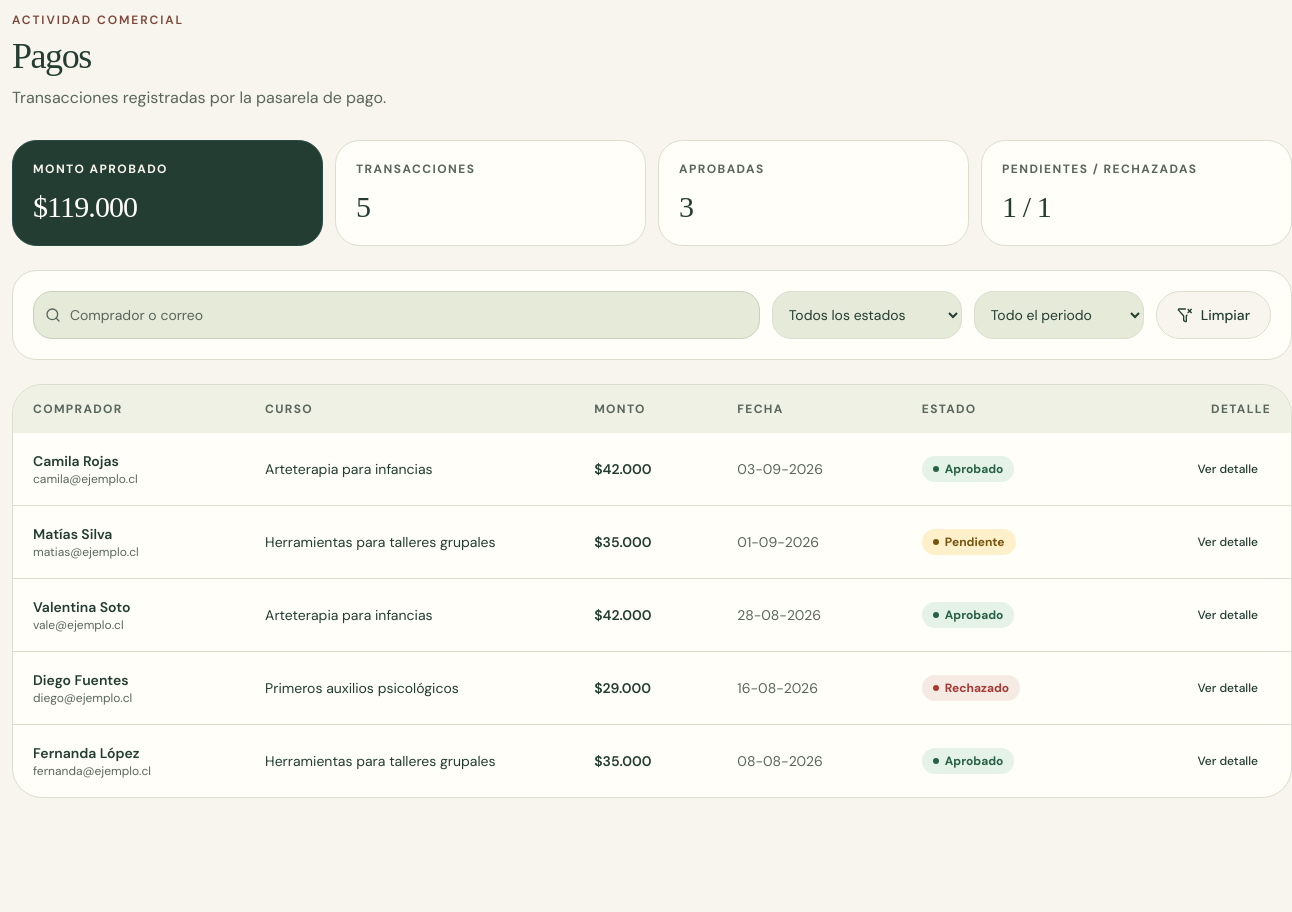
Scenario: PaymentsPanel › calculates metrics from combined filters and can clear an empty result
expect the text "$119.000" is shown: met, box 33,190 -> 137,223
Type "camila" into the field named "Buscar por comprador o correo".
click(396, 315); type("camila")  # box 33,291 -> 760,339
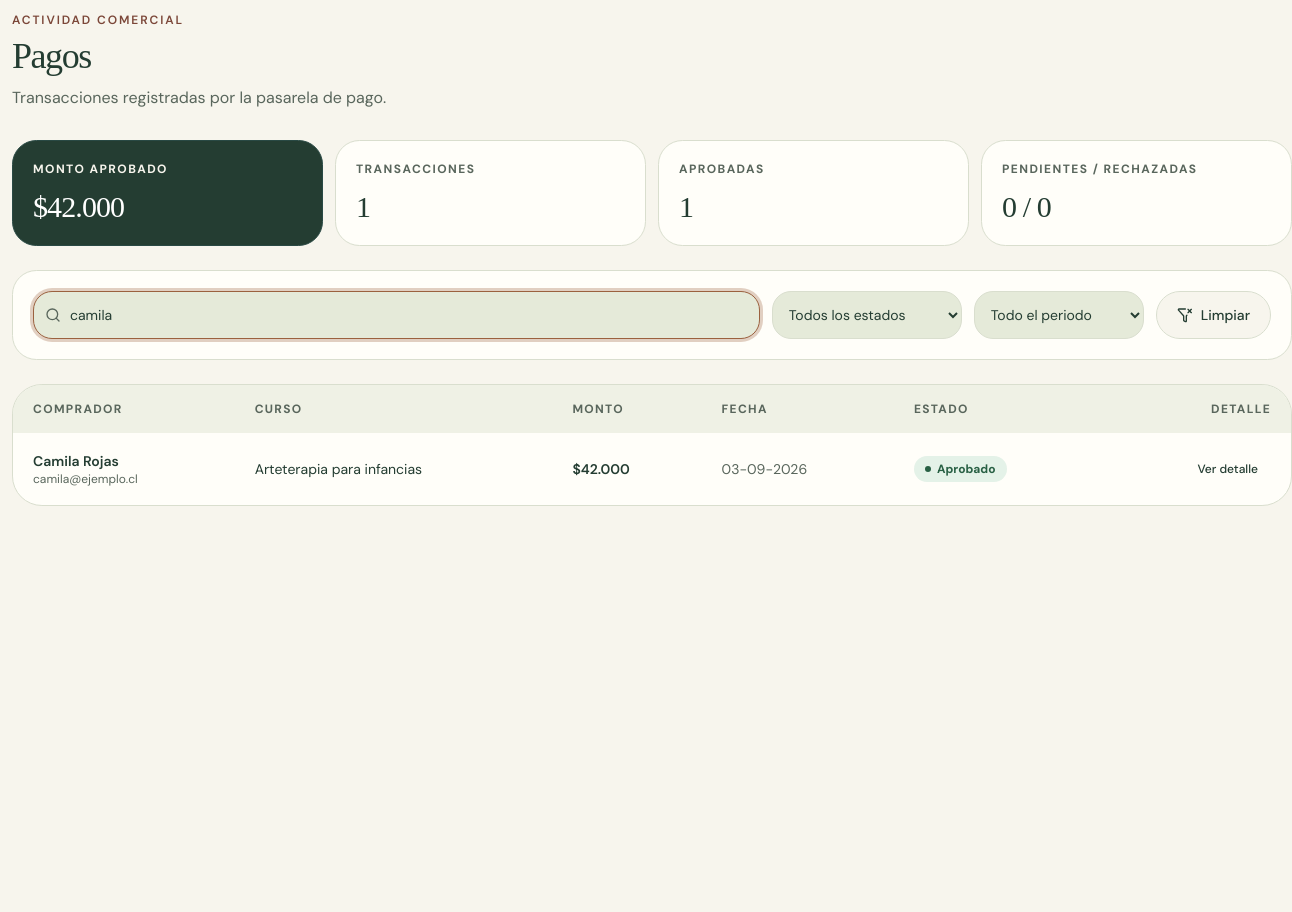
Select "Aprobado" in the 1st dropdown named "Filtrar por estado" at coordinates (867, 315), box 772,291 -> 962,339
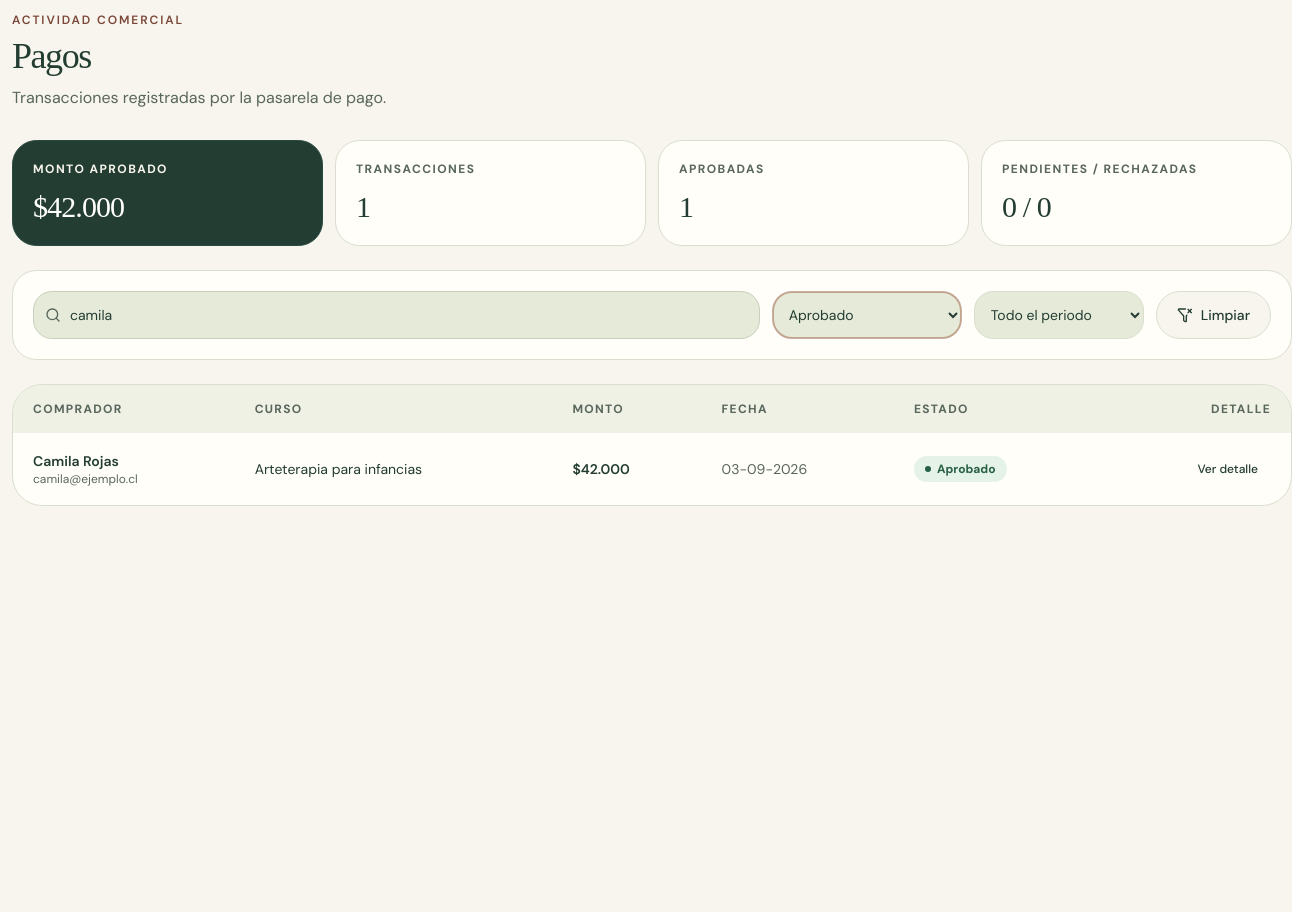
expect the text "Camila Rojas" is shown: met, box 33,452 -> 119,470
expect the text "$42.000" is shown: met, box 33,190 -> 124,223
Replace the text in the field named "Buscar por comprador o correo" with "sin-coincidencias" at coordinates (396, 315), box 33,291 -> 760,339
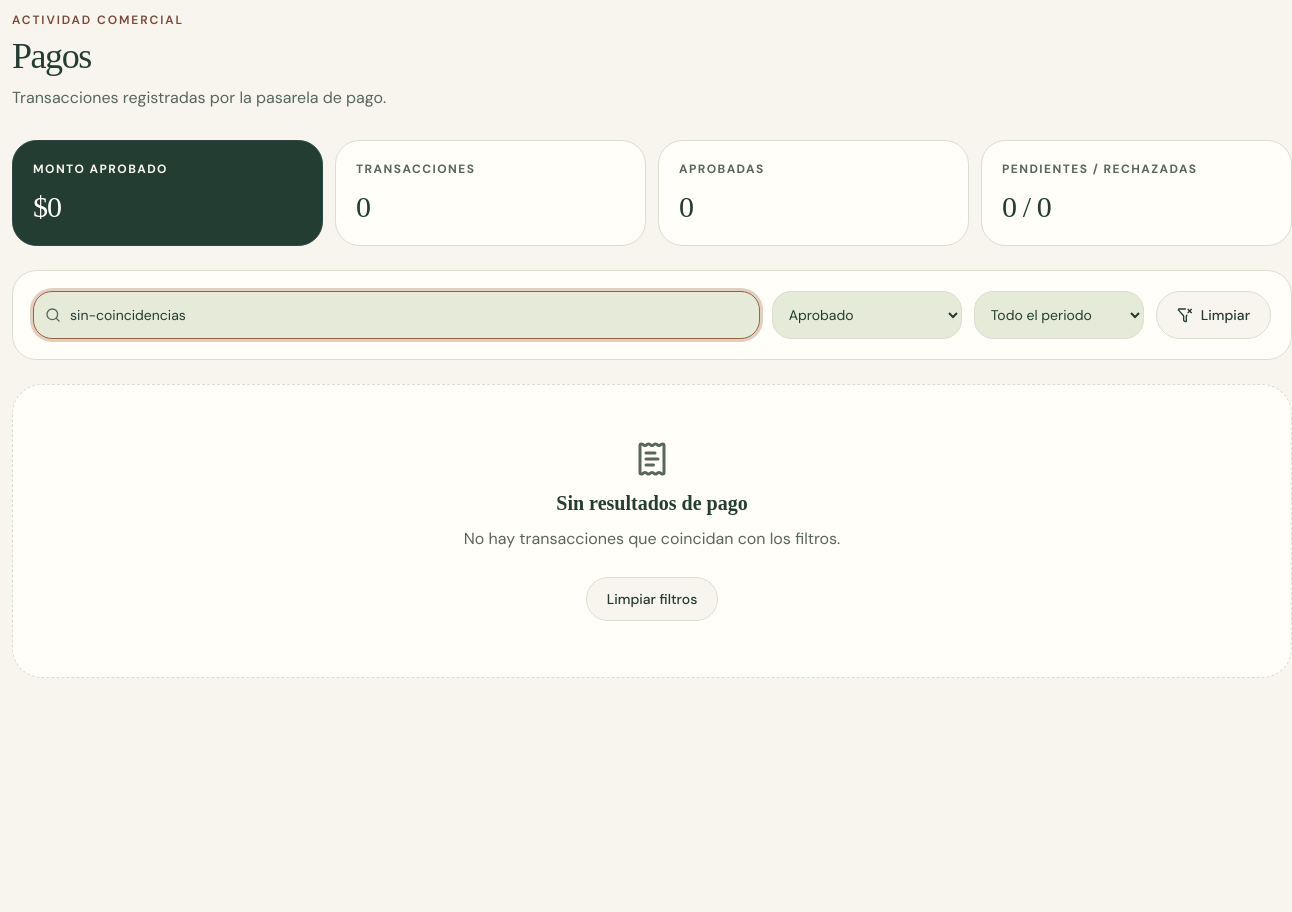
expect the heading "Sin resultados de pago" is shown: met, box 556,492 -> 748,514
Click the button "Limpiar filtros".
click(652, 599)  # box 586,577 -> 718,621
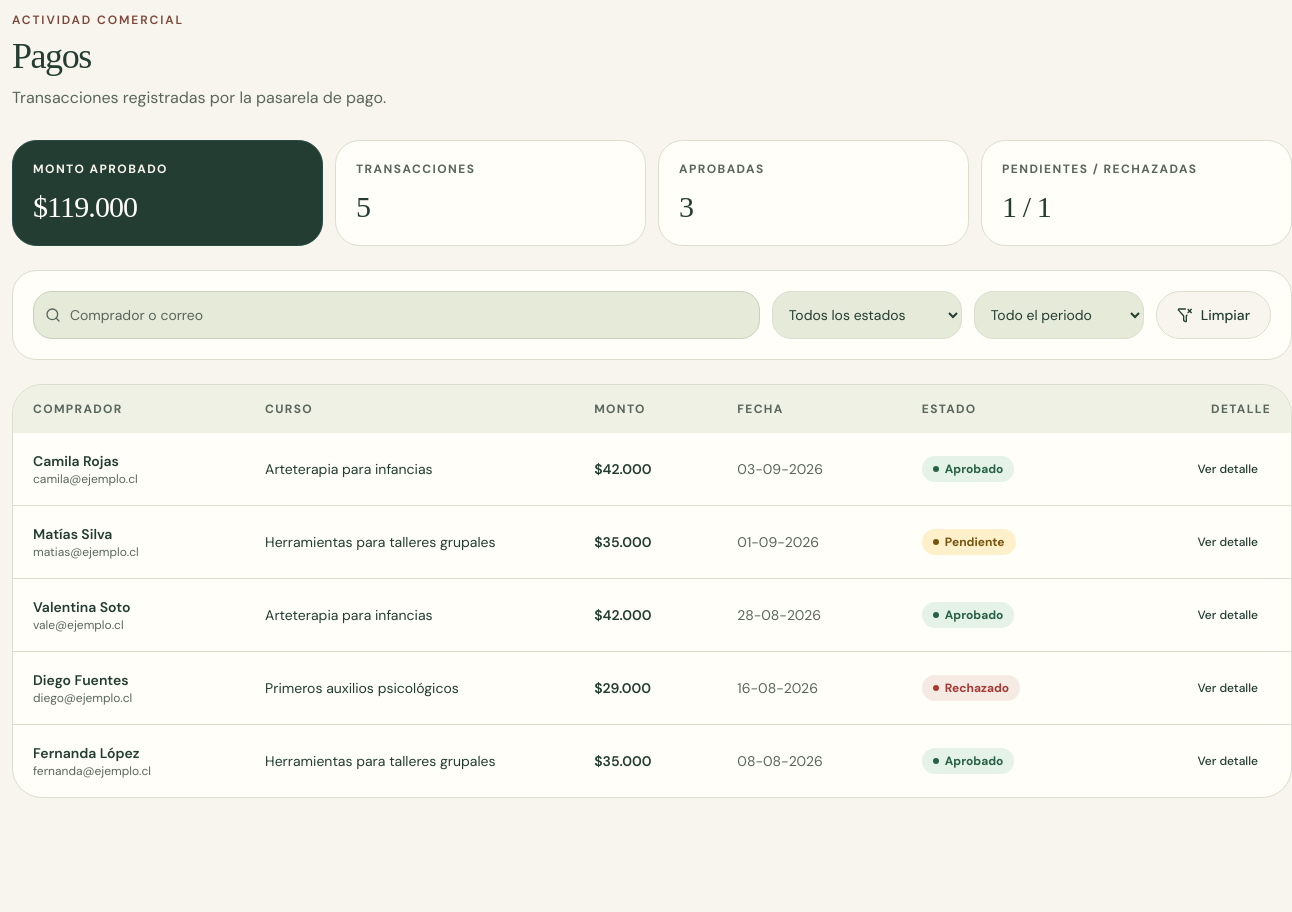
expect the text "Camila Rojas" is shown: met, box 33,452 -> 119,470
